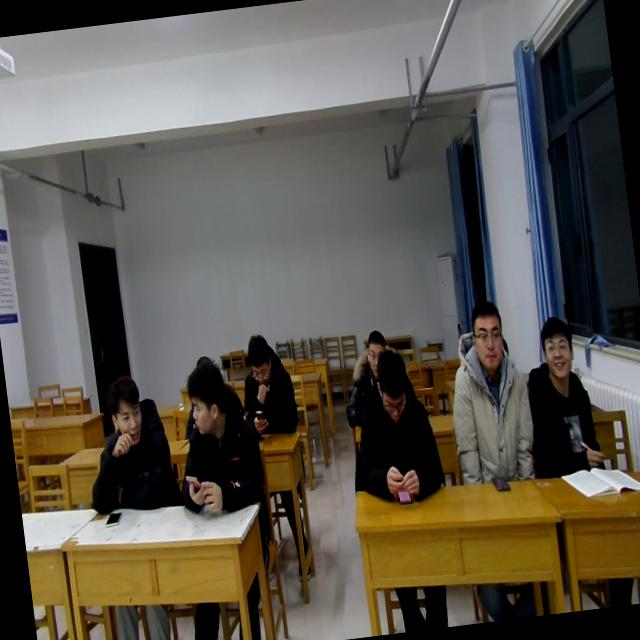bow: (334, 326, 398, 427)
down: (370, 347, 412, 426), (241, 327, 277, 387), (360, 322, 390, 378)
lookup: (533, 311, 581, 392), (464, 294, 510, 376)
sit: (436, 294, 540, 492), (162, 352, 268, 520), (342, 344, 446, 509), (76, 366, 182, 519), (518, 314, 605, 480), (232, 328, 301, 441)
